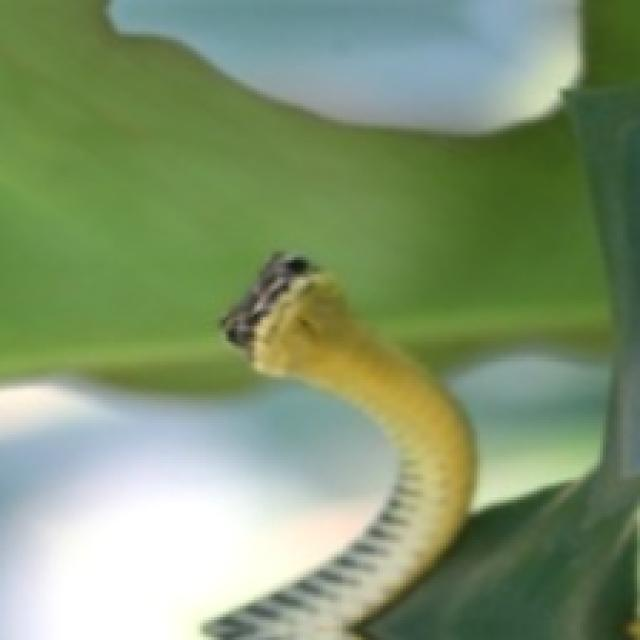paradise tree snake: (206, 254, 471, 637), (206, 257, 471, 637), (420, 469, 637, 637)
